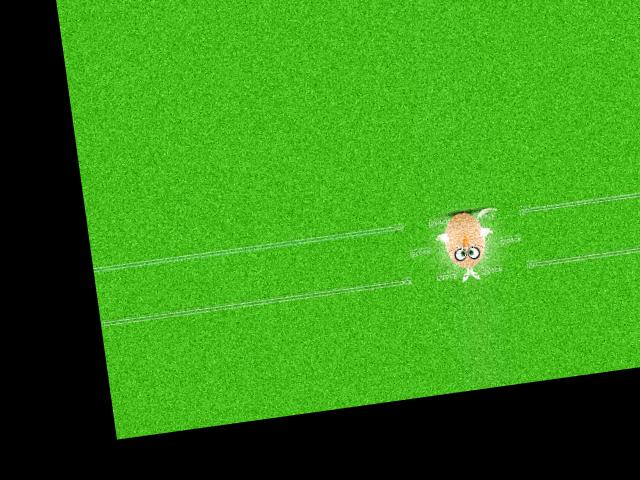egg: (442, 209, 489, 270)
